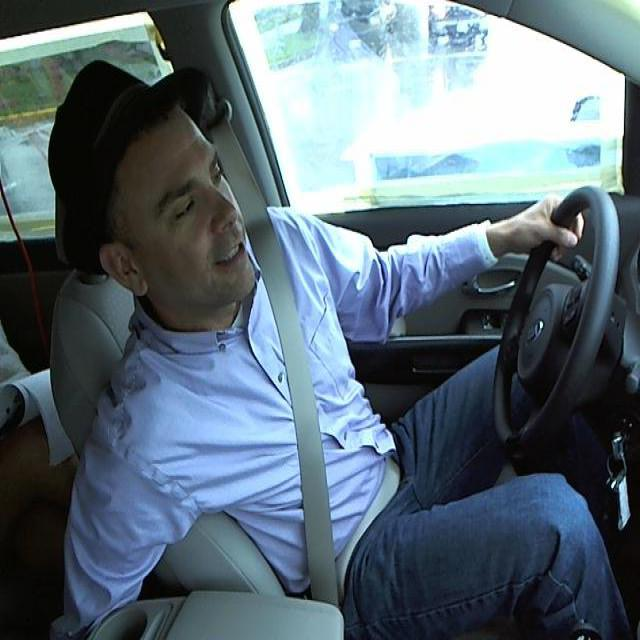seatbelt: (255, 209, 347, 591)
